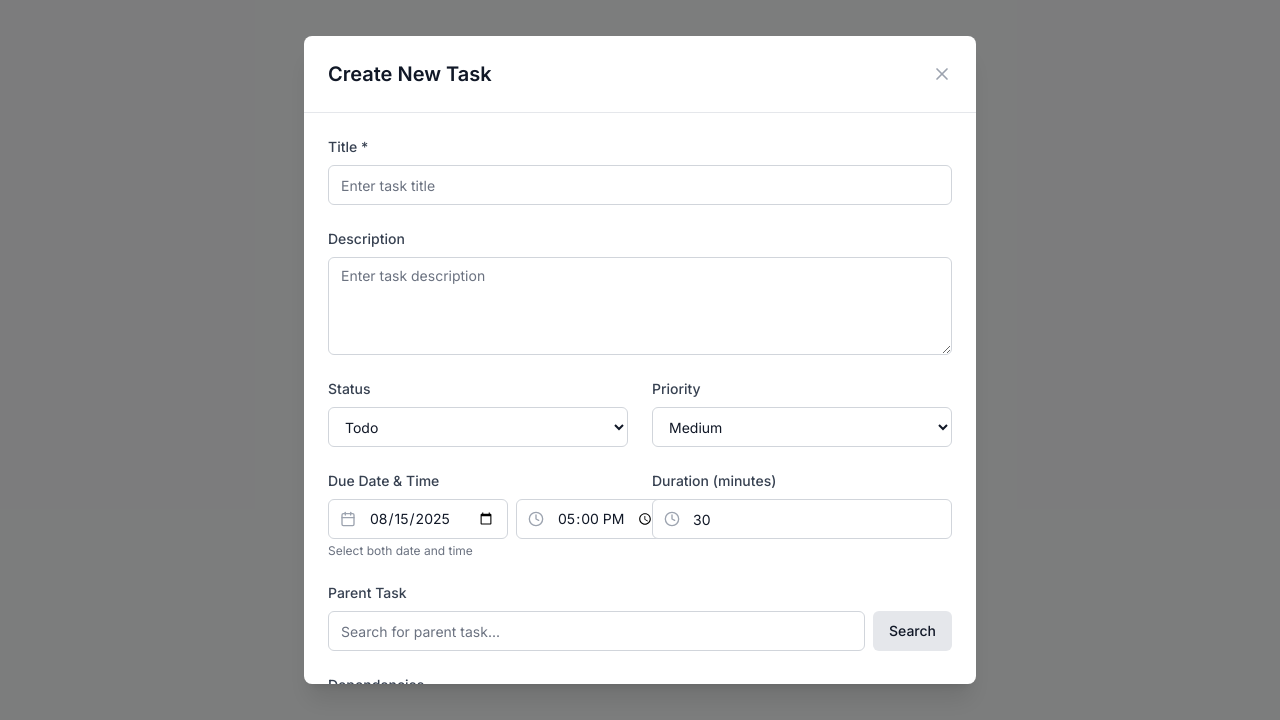
Scenario: CreateTaskModal › should validate title length
This screenshot has width=1280, height=720.
Type "ab" into the field labelled "Title *" at (640, 185), box x1=328 y1=165 x2=952 y2=205
(page scrolled)
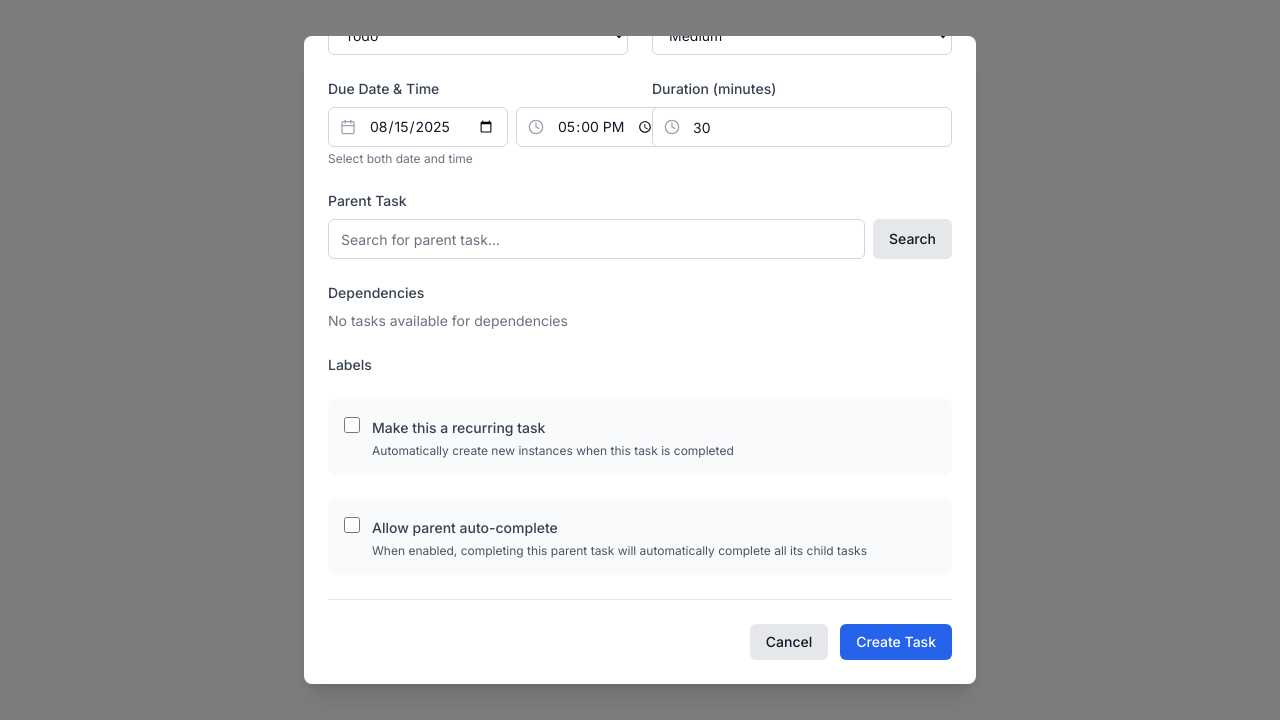
Click the button "Create Task" at (896, 642), box x1=840 y1=624 x2=952 y2=660
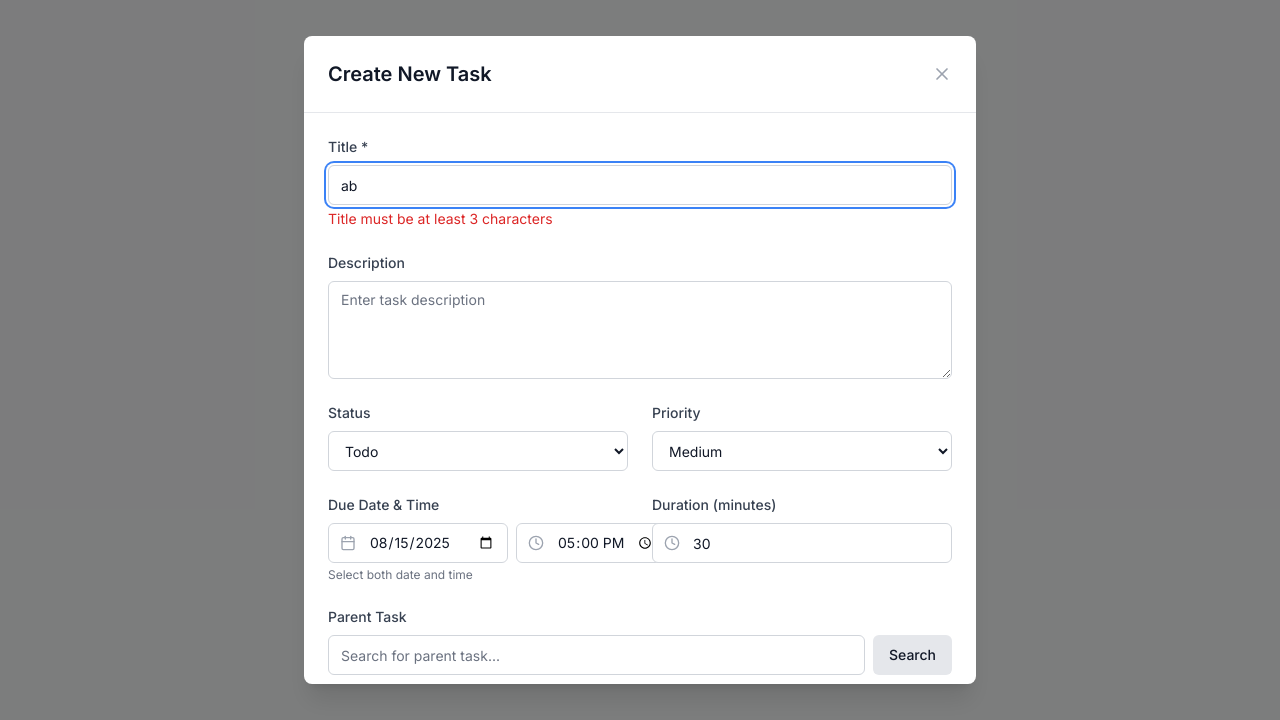
Now the text "Title must be at least 3 characters" is shown, box x1=328 y1=210 x2=553 y2=227
